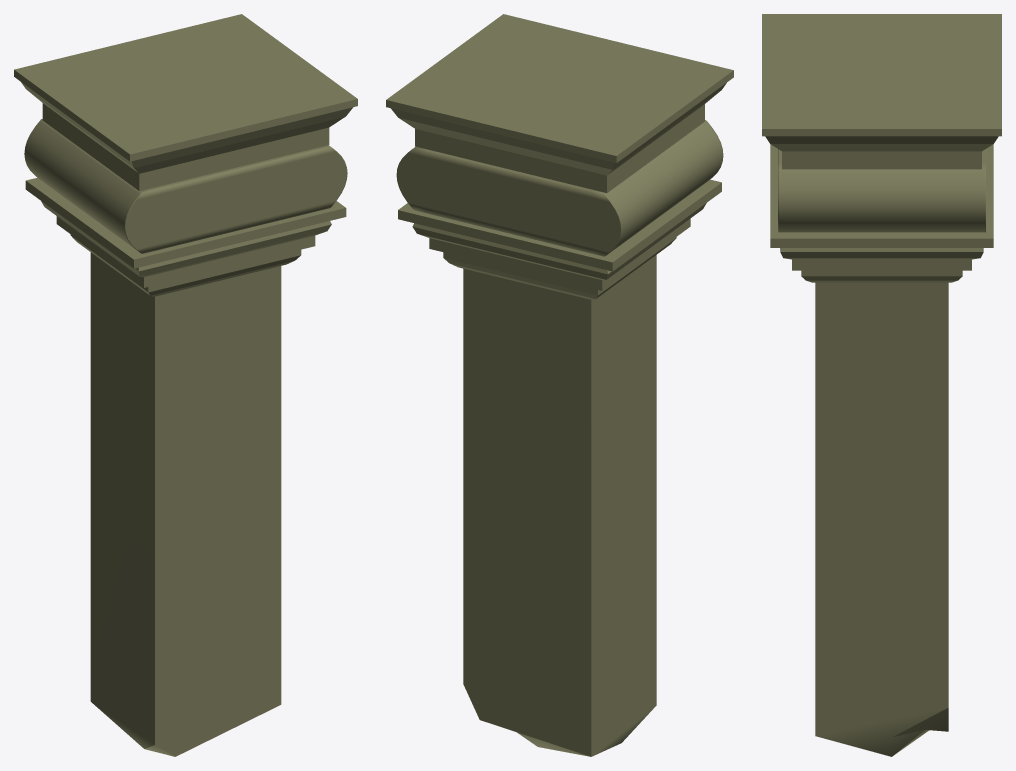
Rendered from ruineColumn01half2.fbx.
3 views of the same model, side by side, from view 1: azimuth 30°, elevation 25°; view 2: azimuth 150°, elevation 25°; view 3: azimuth 270°, elevation 25° (orthographic). The views are drawn at different scales.
Visible parts, largest first — view 1: ruineColumn01half2; view 2: ruineColumn01half2; view 3: ruineColumn01half2.
Boxes of the visible parts, x1,y1,x2,y2 form: ruineColumn01half2: (14,14,357,756); ruineColumn01half2: (386,14,733,756); ruineColumn01half2: (762,14,1001,756).
Size of the model in its own units: 0.1634 by 0.442 by 0.1441.
